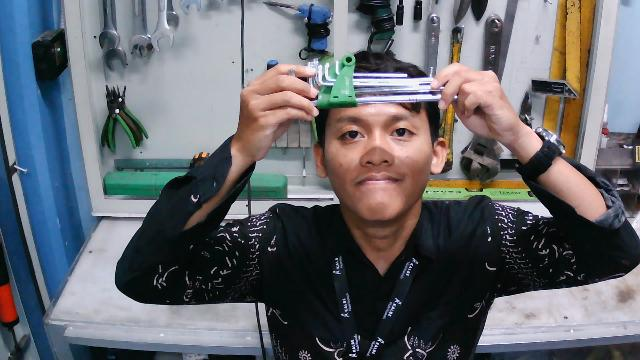kunci_l_bintang: (283, 52, 464, 109)
